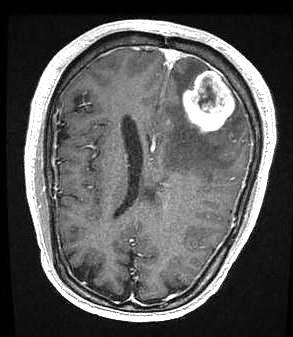Tumor: (176, 67, 243, 139)
